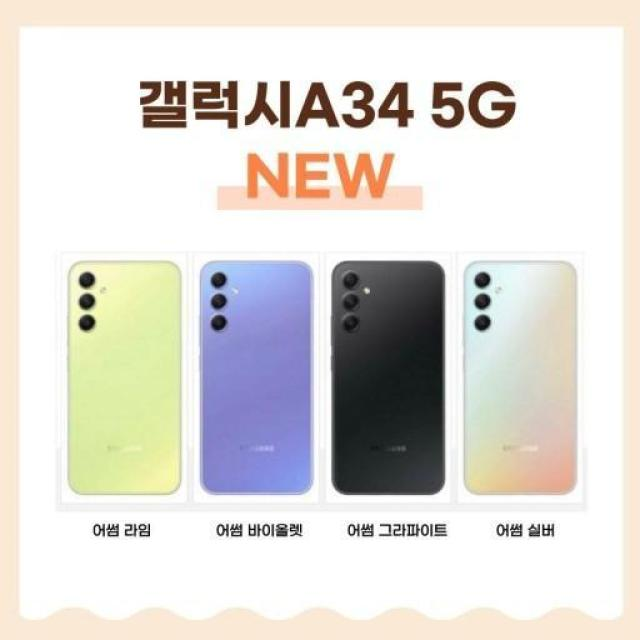mobile-phone: (330, 259, 450, 501), (196, 262, 319, 498), (464, 259, 580, 500), (69, 258, 185, 498)
